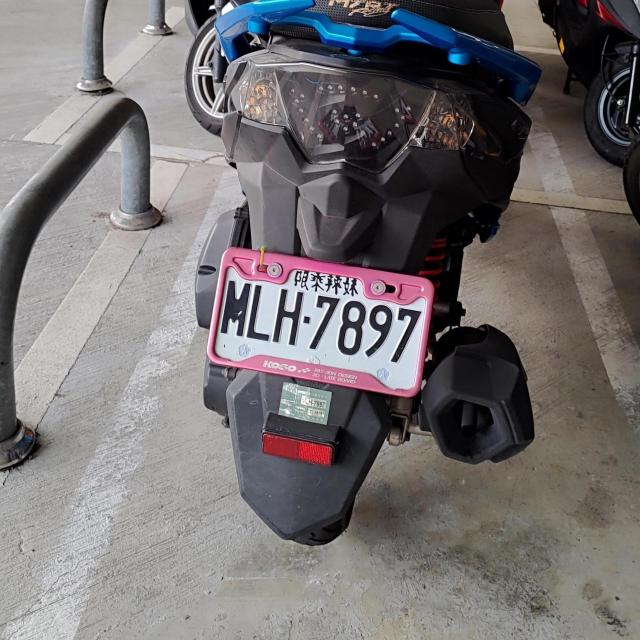W: (204, 245, 436, 397)
